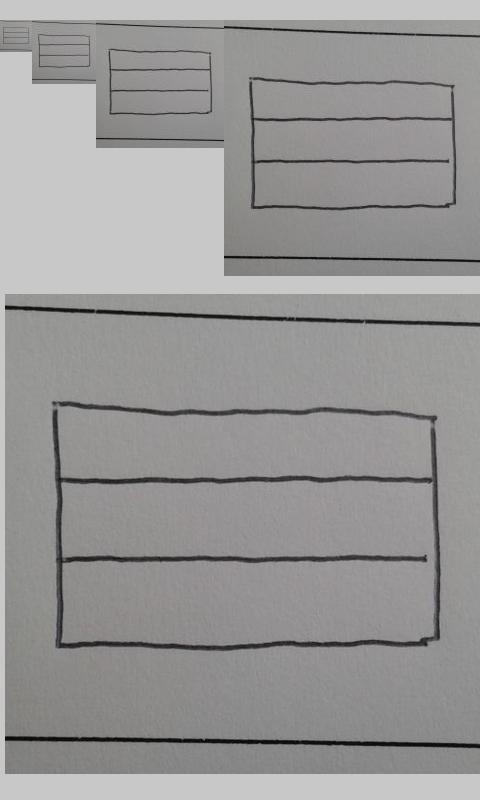list_view: (48, 397, 445, 651), (248, 75, 459, 212), (108, 47, 214, 116), (38, 33, 92, 68), (2, 26, 30, 45)
